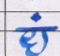anusvara: (31, 13, 40, 21)
